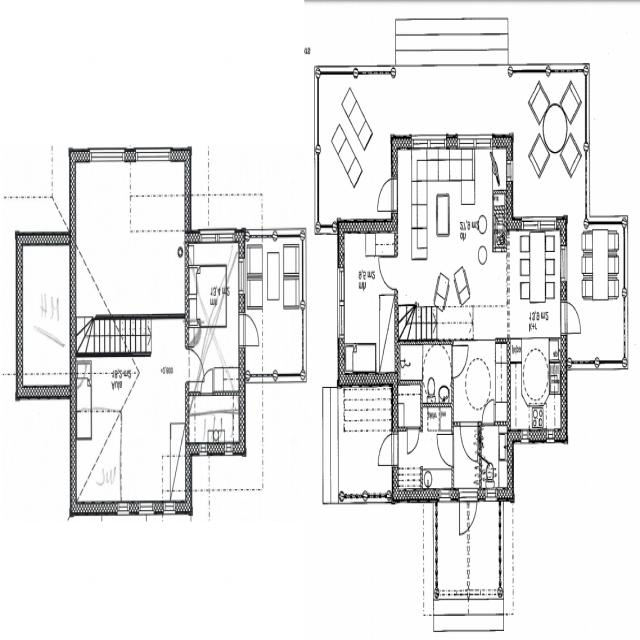door: (459, 488, 478, 542), (374, 177, 398, 212), (238, 314, 262, 348), (561, 301, 584, 334), (460, 422, 478, 464), (376, 435, 398, 468), (378, 259, 398, 291), (451, 347, 469, 378), (436, 438, 454, 468), (185, 321, 202, 349), (72, 358, 90, 384), (99, 386, 112, 420), (482, 396, 494, 427), (407, 428, 419, 457)
